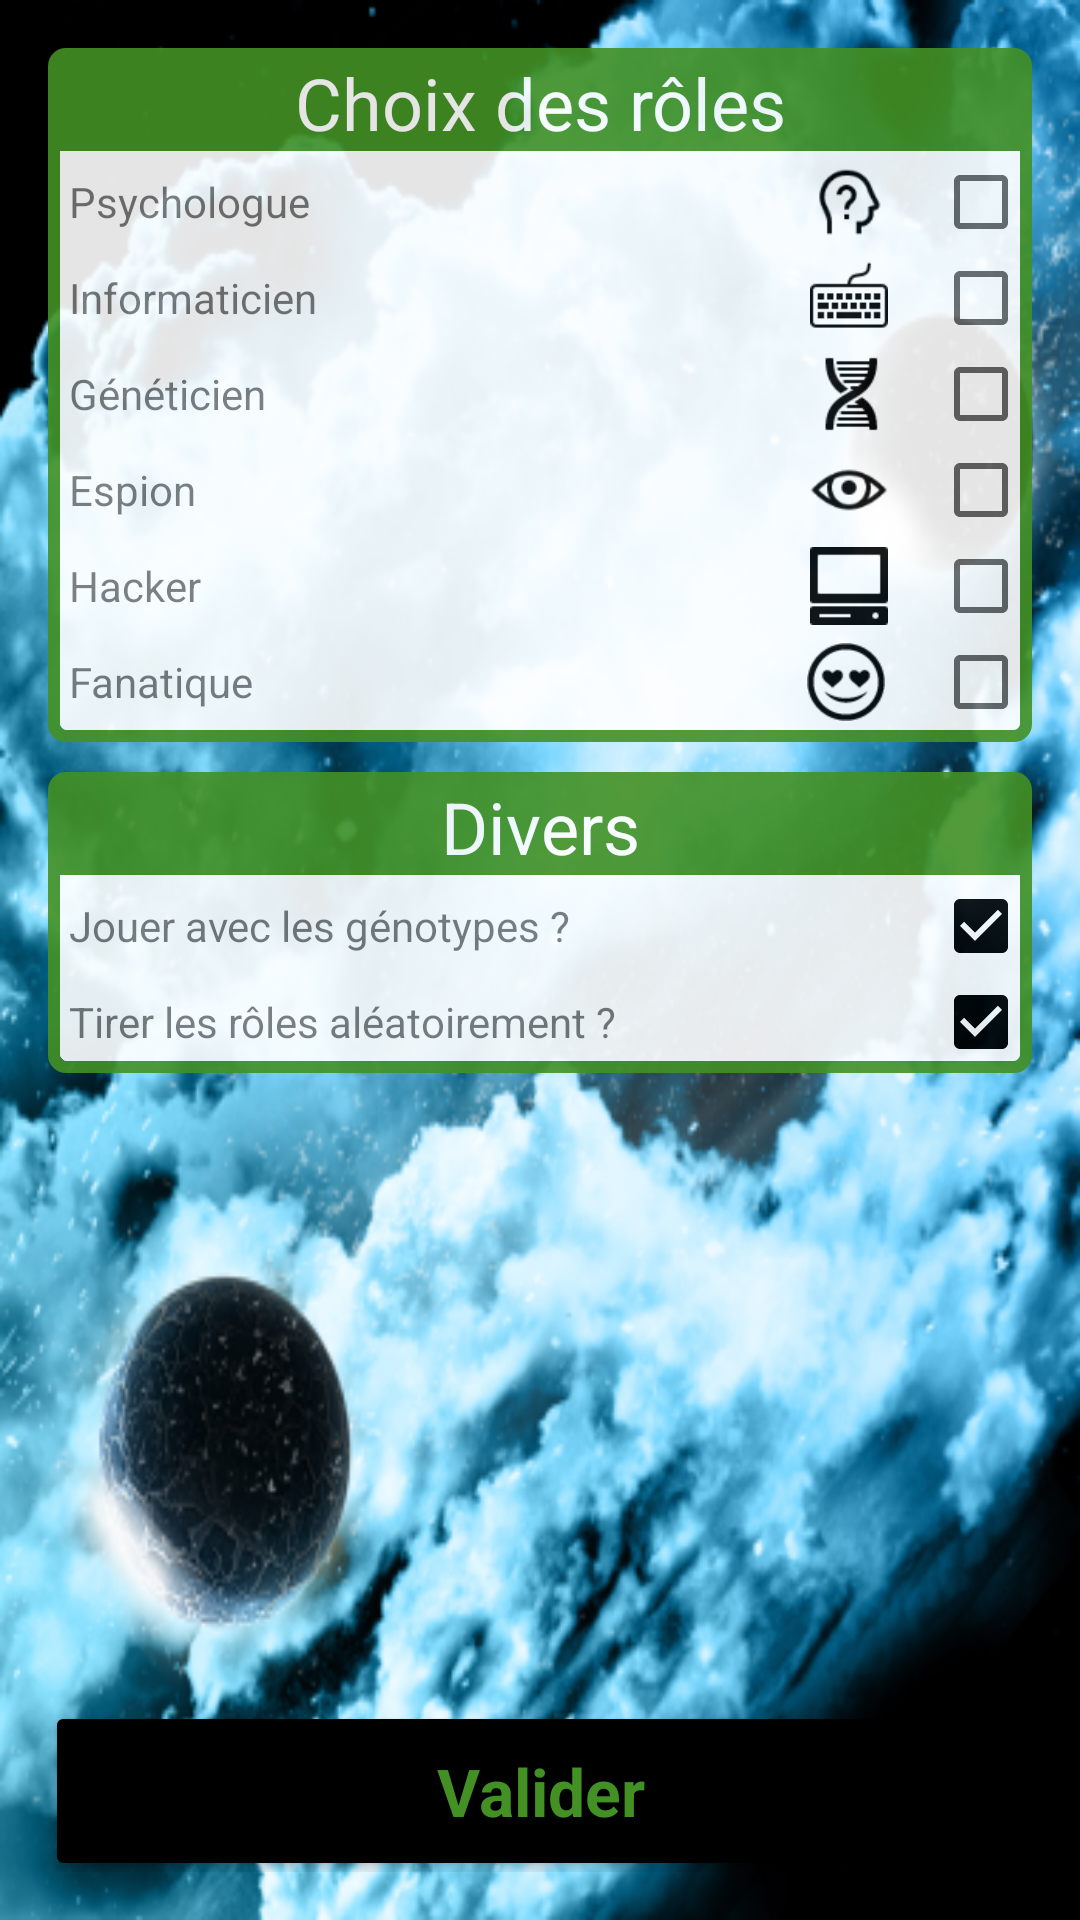

Where icons sit on this 1080*1920 app screen, as (x1, y1, x2, y2):
computer scientist: (810, 262, 888, 328)
fanatic: (807, 643, 924, 721)
geneticist: (825, 357, 917, 431)
psychologist: (819, 169, 881, 235)
spy: (811, 469, 887, 511)
